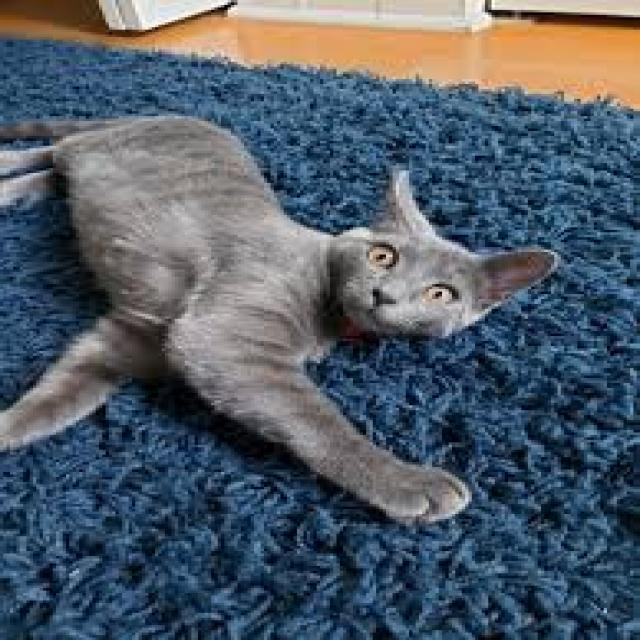Cat: (0, 108, 569, 534)
